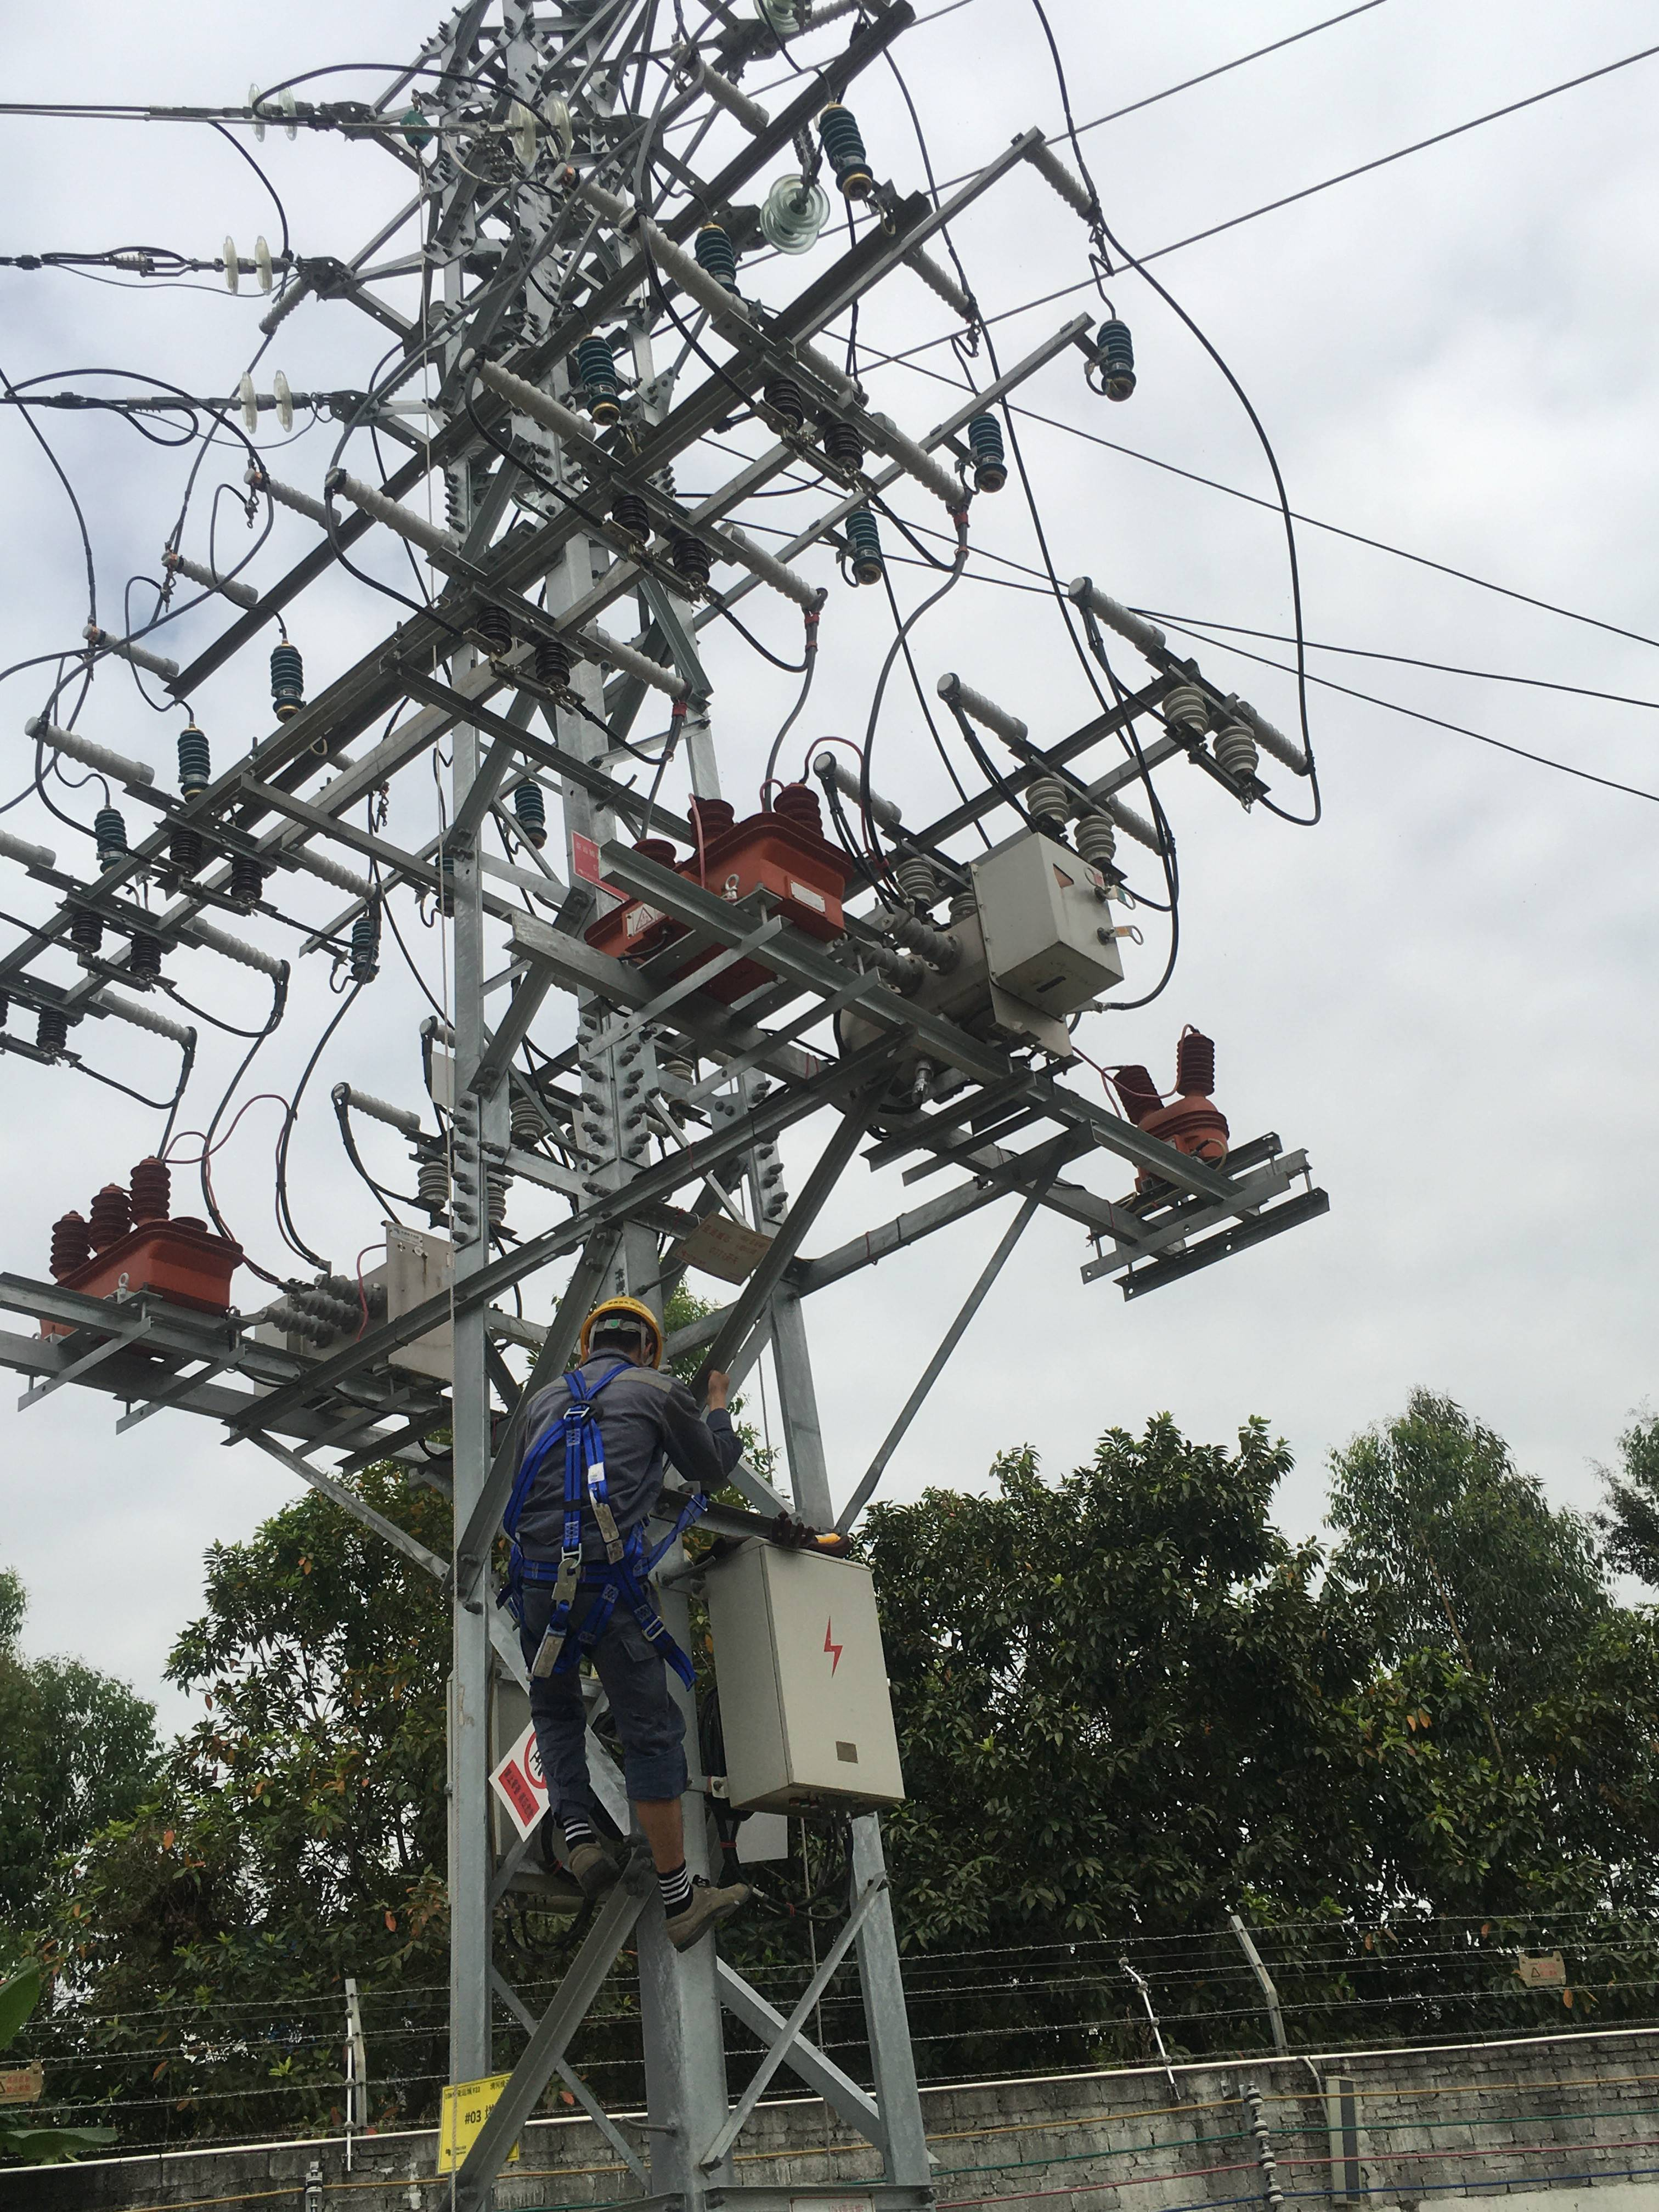downsuit: (523, 1566, 694, 1804)
upsuit: (507, 1367, 694, 1581)
wrongbottom: (620, 1761, 713, 1907)
